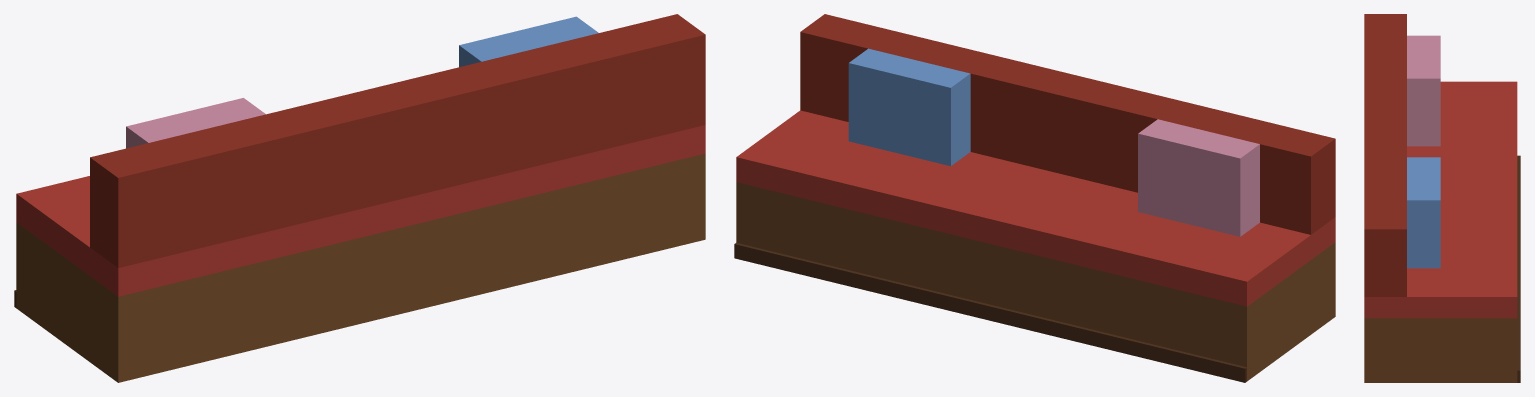
File: tv-window-seat.glb
The picture shows the model from 3 angles, left to right: view 1: azimuth 30°, elevation 25°; view 2: azimuth 150°, elevation 25°; view 3: azimuth 270°, elevation 25°; orthographic projection. The views are drawn at different scales.
Visible parts, largest first — view 1: box-prop; view 2: box-prop; view 3: box-prop.
Part boxes in pixels (box(x1,y1,x2,y2)): box-prop: box(14, 14, 705, 382); box-prop: box(734, 14, 1335, 382); box-prop: box(1364, 14, 1520, 382).
Bounding box in the file's own units: 3 × 1 × 0.92.
